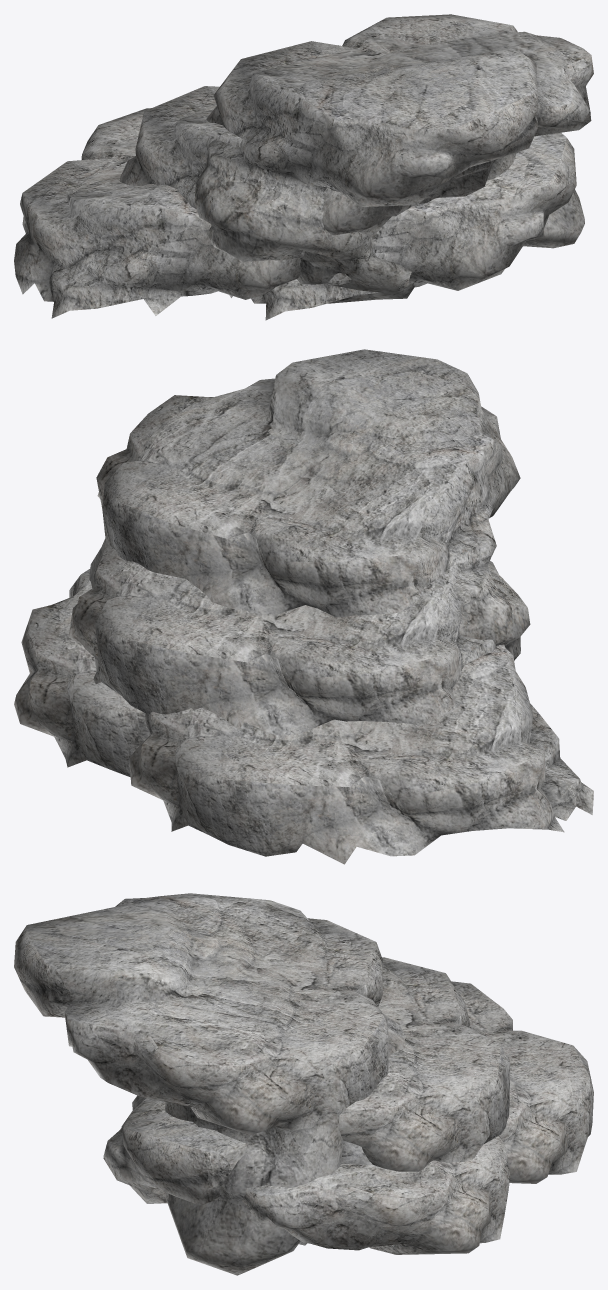
Rendered from rock3.fbx.
3 views of the same model, one above another, from view 1: azimuth 30°, elevation 25°; view 2: azimuth 150°, elevation 25°; view 3: azimuth 270°, elevation 25° (orthographic). The views are drawn at different scales.
Parts seen in each view (by area): view 1: Rocks3; view 2: Rocks3; view 3: Rocks3.
Boxes of the visible parts, <box> form: Rocks3: <box>14,14,593,320</box>; Rocks3: <box>14,349,593,864</box>; Rocks3: <box>14,893,593,1275</box>.
Bounding box in the file's own units: 112 × 52.92 × 107.
